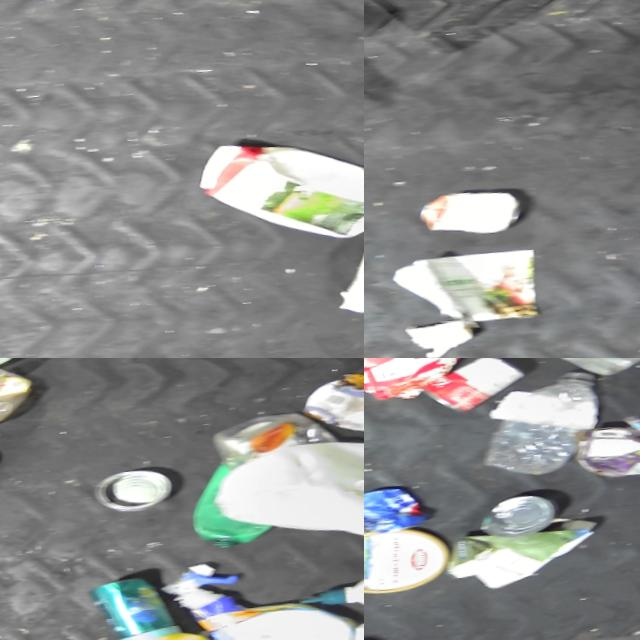can: (416, 179, 536, 241), (425, 358, 538, 413), (364, 477, 445, 536), (484, 485, 572, 539), (96, 461, 184, 514)
milk_jug: (195, 120, 364, 249), (211, 419, 364, 552)
plastic_bottle: (480, 361, 618, 479)
